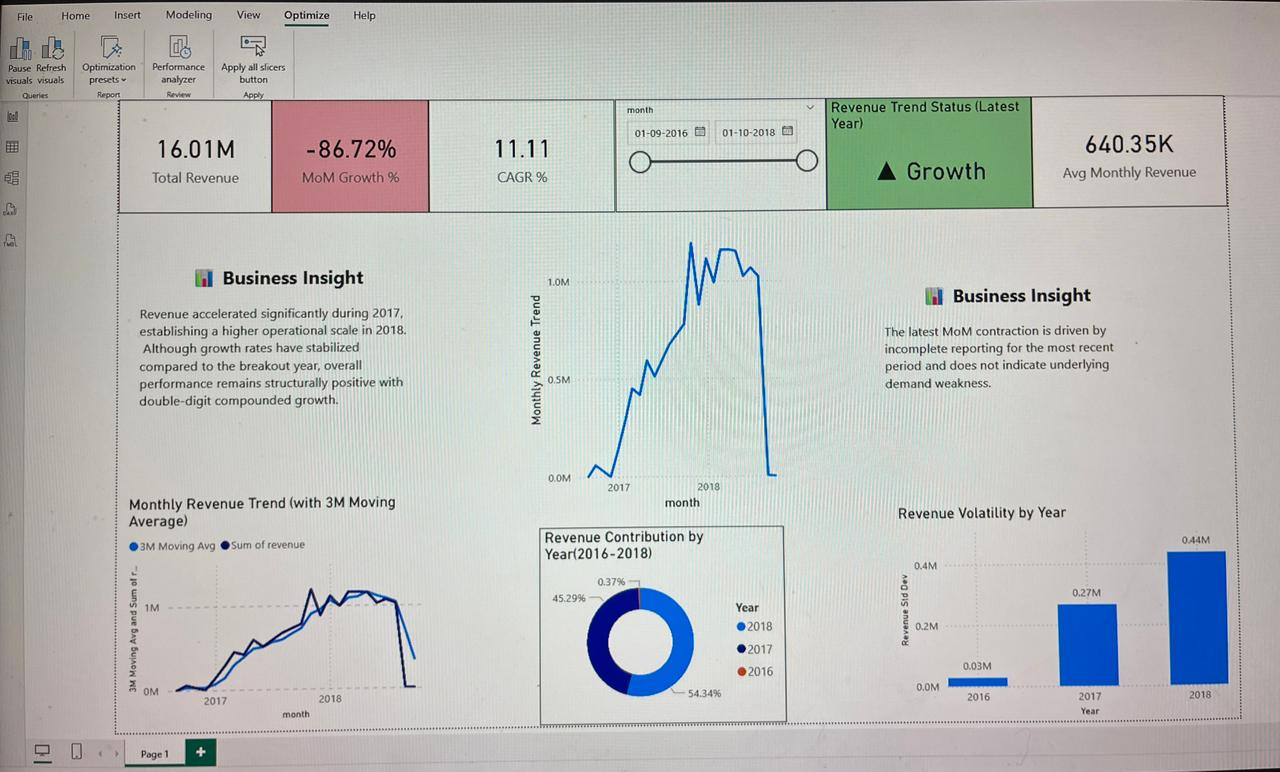

The page's visual inventory and layout, read from the dashboard file:
{"tool":"powerbi","page":{"name":"Page 1","canvas":[1280,720],"ordinal":0},"visuals":[{"type":"card","fields":{"Values":["Sum(olist v_monthly_revenue.revenue)"]},"box":[0,0,172.5,130.8],"z":0},{"type":"card","fields":{"Values":["olist v_monthly_revenue.Avg Monthly Revenue"]},"box":[1054.4,0,225.6,130.8],"z":1000},{"type":"lineChart","fields":{"Category":["olist v_monthly_revenue.month"],"Y":["Sum(olist v_monthly_revenue.revenue)"]},"box":[461.3,152.2,307.9,329.3],"z":2000},{"type":"card","fields":{"Values":["olist v_monthly_revenue.MoM Growth %"]},"box":[172.5,0,180.4,130.8],"z":3000},{"type":"slicer","title":"MONTH","fields":{"Values":["olist v_monthly_revenue.month"]},"box":[568.4,0,245.9,130.8],"z":5000},{"type":"card","fields":{"Values":["olist v_monthly_revenue.CAGR %"]},"box":[353,0,215.4,130.8],"z":5001},{"type":"donutChart","title":"Revenue Contribution by Year(2016-2018)","fields":{"Category":["olist v_monthly_revenue.Year"],"Y":["olist v_monthly_revenue.Revenue % of Total"]},"box":[477,496.2,281.9,223.3],"z":5002},{"type":"clusteredColumnChart","title":"Revenue Volatility by Year","fields":{"Category":["olist v_monthly_revenue.Year"],"Y":["olist v_monthly_revenue.Revenue Std Dev"]},"box":[885.3,472.5,385.7,247],"z":5003},{"type":"lineChart","title":"Monthly Revenue Trend (with 3M Moving Average)","fields":{"Y":["olist v_monthly_revenue.3M Moving Avg","Sum(olist v_monthly_revenue.revenue)"],"Category":["olist v_monthly_revenue.month"]},"box":[7.9,453.4,345.1,259.4],"z":5004},{"type":"card","title":"Revenue Trend Status (Latest Year)","fields":{"Values":["olist v_monthly_revenue.Growth Indicator"]},"box":[814.2,0,240.2,130.8],"z":5005},{"type":"textbox","box":[19.2,185,321.4,194],"z":5008},{"type":"textbox","box":[874,212,293.2,166.9],"z":5009}]}

Visuals, with their boxes on the page's 1280x720 design canvas (x1, y1, x2, y2). These are canvas units, not pixel positions in the 1280x772 screenshot, which may show the page scaled, cropped or inside an application window:
card - Sum(olist v_monthly_revenue.revenue): pyautogui.locateOnScreen(0, 0, 172, 131)
card - olist v_monthly_revenue.Avg Monthly Revenue: pyautogui.locateOnScreen(1054, 0, 1280, 131)
lineChart - olist v_monthly_revenue.month x Sum(olist v_monthly_revenue.revenue): pyautogui.locateOnScreen(461, 152, 769, 482)
card - olist v_monthly_revenue.MoM Growth %: pyautogui.locateOnScreen(172, 0, 353, 131)
"MONTH" slicer: pyautogui.locateOnScreen(568, 0, 814, 131)
card - olist v_monthly_revenue.CAGR %: pyautogui.locateOnScreen(353, 0, 568, 131)
"Revenue Contribution by Year(2016-2018)" donutChart: pyautogui.locateOnScreen(477, 496, 759, 720)
"Revenue Volatility by Year" clusteredColumnChart: pyautogui.locateOnScreen(885, 472, 1271, 720)
"Monthly Revenue Trend (with 3M Moving Average)" lineChart: pyautogui.locateOnScreen(8, 453, 353, 713)
"Revenue Trend Status (Latest Year)" card: pyautogui.locateOnScreen(814, 0, 1054, 131)
textbox: pyautogui.locateOnScreen(19, 185, 341, 379)
textbox: pyautogui.locateOnScreen(874, 212, 1167, 379)
